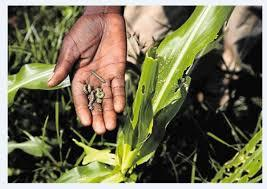fallarmy_worm: (87, 69, 108, 84), (87, 84, 95, 110), (96, 87, 106, 105)
